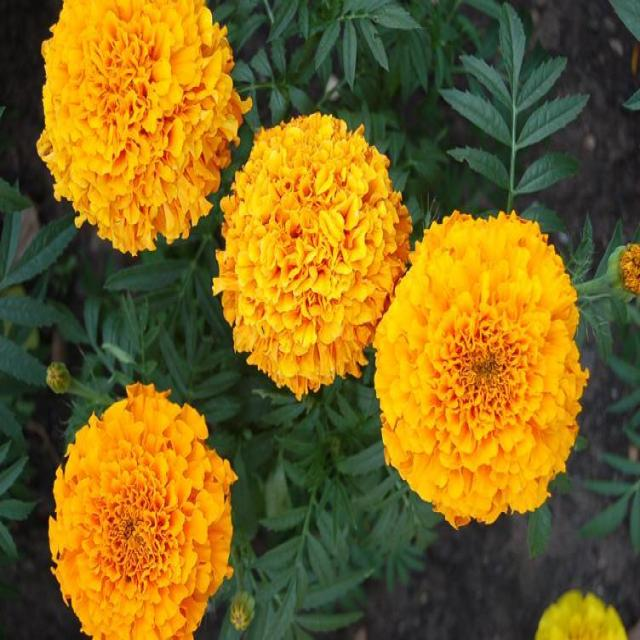marigold: (12, 4, 394, 400), (27, 358, 313, 640), (405, 205, 600, 549)
